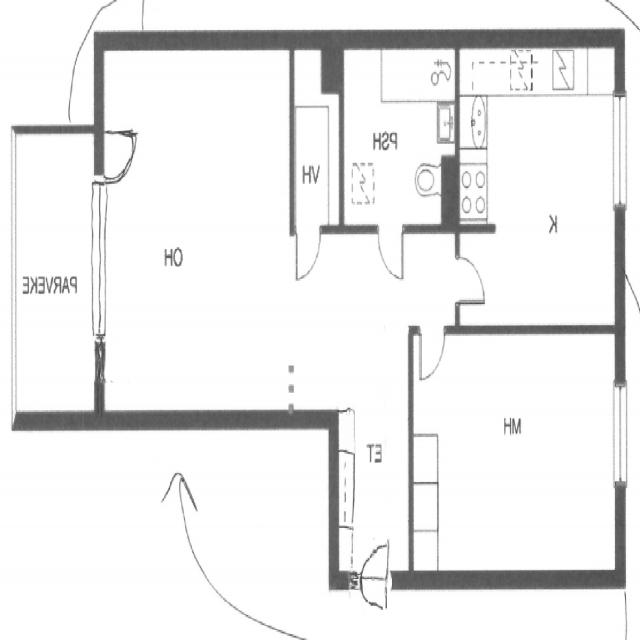door: (360, 538, 392, 611), (453, 250, 489, 307), (376, 224, 407, 284), (293, 226, 323, 282), (417, 326, 447, 382)
window: (86, 184, 110, 376), (608, 81, 632, 219), (609, 369, 632, 498), (92, 332, 108, 388)
zone: (98, 44, 294, 422), (410, 329, 622, 580), (460, 48, 622, 336), (13, 119, 102, 417), (341, 42, 456, 230), (291, 45, 340, 230)
